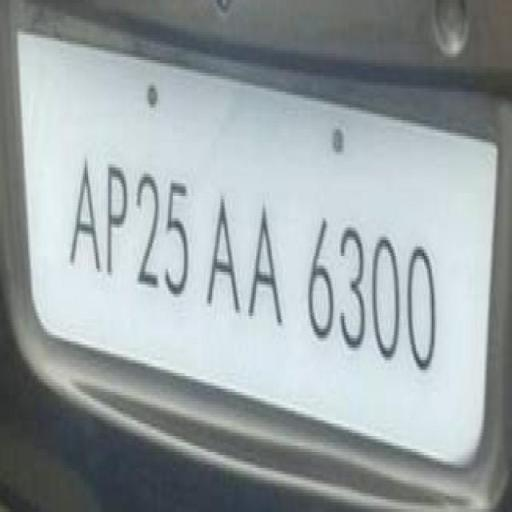number plate: (23, 22, 468, 436)
